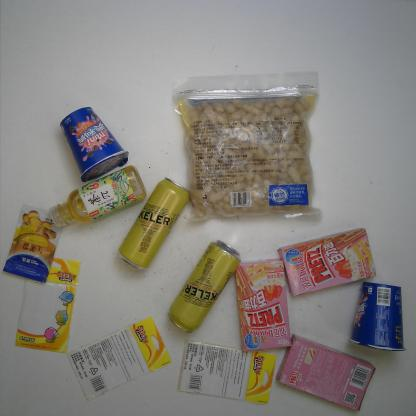Alcohol: (168, 238, 241, 334), (116, 176, 189, 272)
Dessert: (274, 332, 375, 412), (278, 227, 377, 297), (233, 258, 292, 355), (59, 106, 129, 183), (347, 282, 407, 354)
Dried Food: (174, 73, 319, 227)
Drink: (48, 164, 146, 228)
Seasoner: (3, 204, 63, 286)
Stationery: (66, 317, 170, 401), (174, 338, 274, 407), (16, 256, 82, 354)
